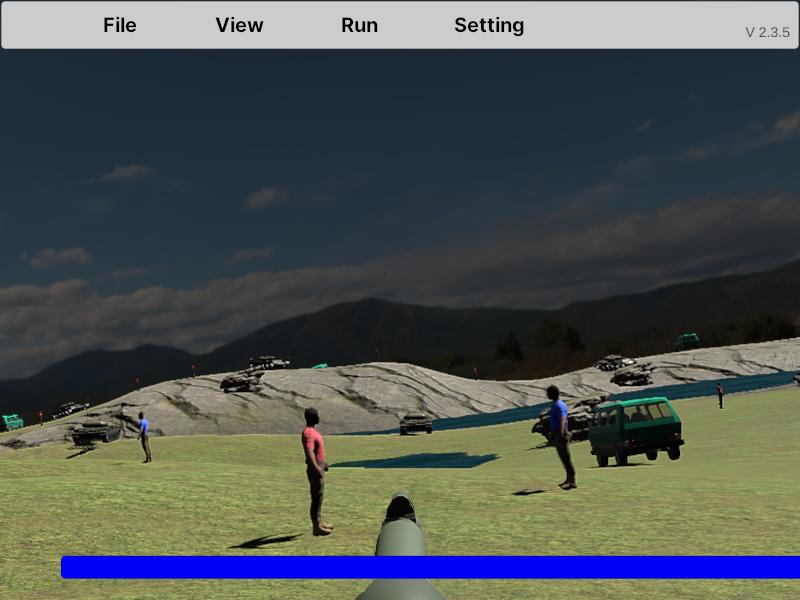Human: (302, 406, 334, 537), (547, 382, 576, 490), (136, 411, 152, 464)
car: (589, 397, 684, 467)
